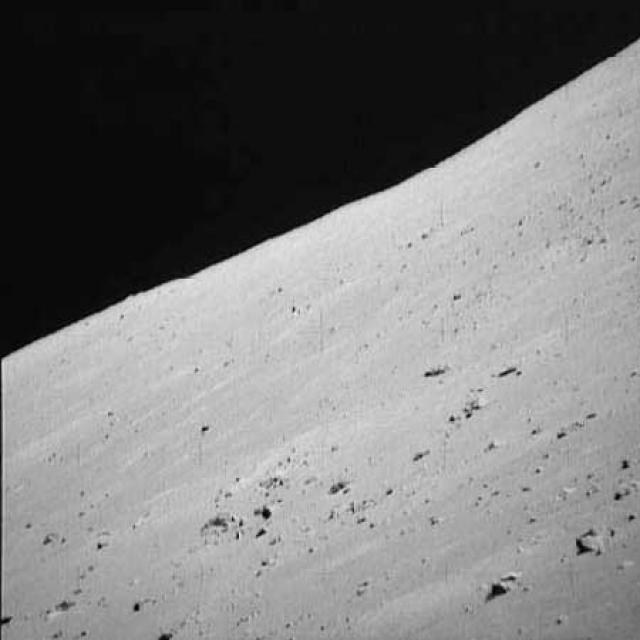rock: (572, 516, 626, 563), (479, 566, 523, 602), (193, 502, 239, 533), (462, 387, 493, 416), (259, 500, 280, 522)
